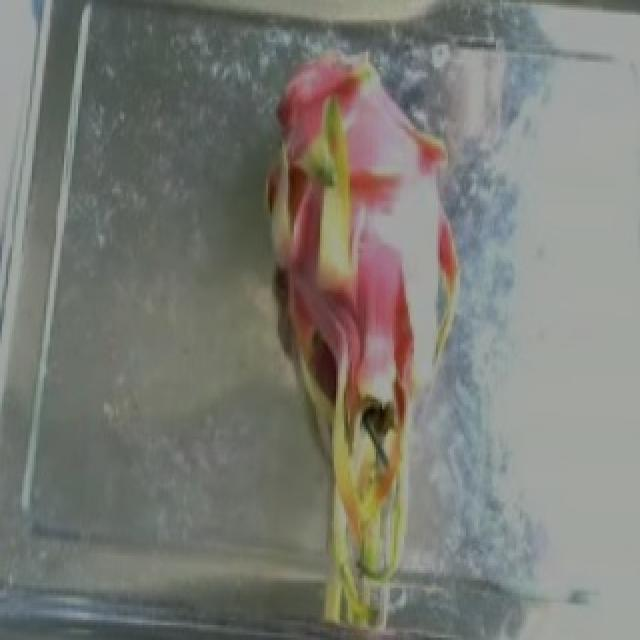fruit: (224, 18, 478, 472)
